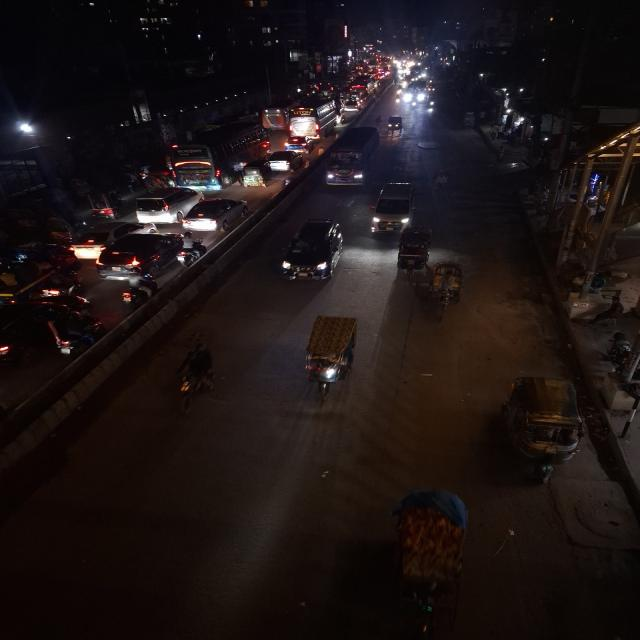bus: (163, 122, 265, 190), (323, 129, 377, 190), (289, 104, 340, 136), (260, 104, 290, 131)
car: (273, 214, 349, 287), (97, 234, 179, 280), (80, 215, 164, 255), (372, 178, 420, 238), (129, 190, 207, 222), (188, 198, 250, 232), (280, 133, 312, 156), (271, 150, 302, 173), (343, 101, 361, 114)
cng: (508, 366, 593, 502), (243, 160, 274, 188), (384, 115, 408, 134)
motorcycle: (153, 334, 230, 417), (118, 266, 160, 313), (178, 229, 209, 271)
pedestrian: (374, 114, 384, 132)
rickshaw: (293, 307, 363, 416), (420, 260, 480, 322), (393, 228, 438, 279), (81, 187, 132, 222)
